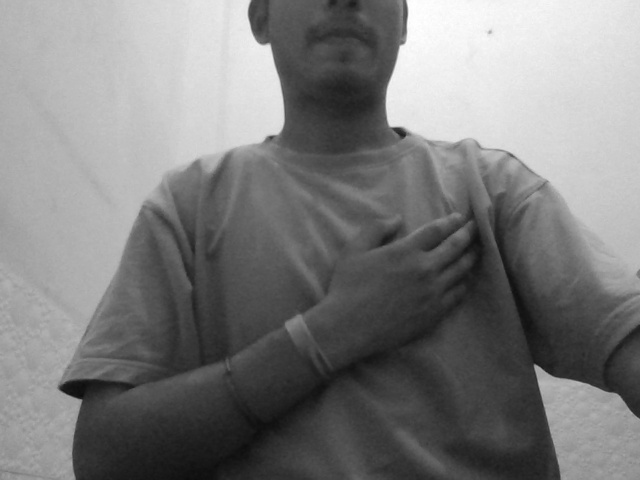Sorry: (281, 180, 480, 404)
